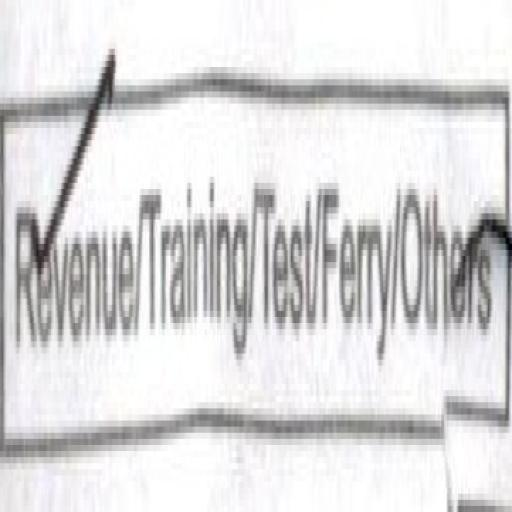check: (7, 0, 135, 447)
